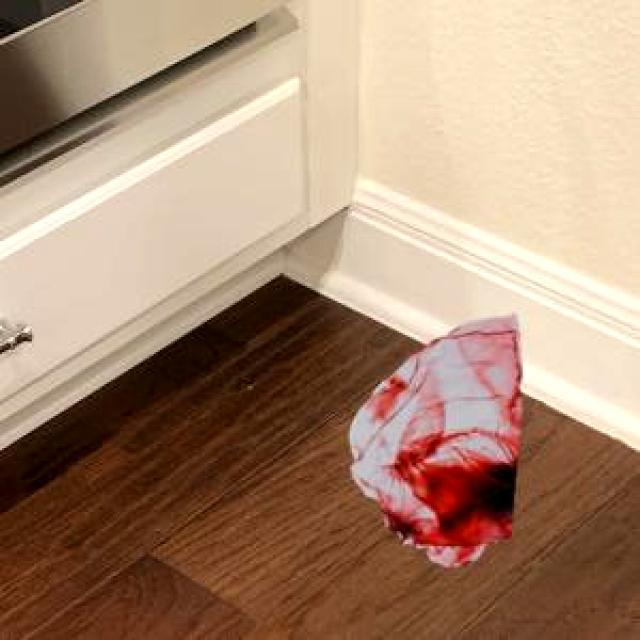Plastic_Bag: (346, 310, 520, 564)
